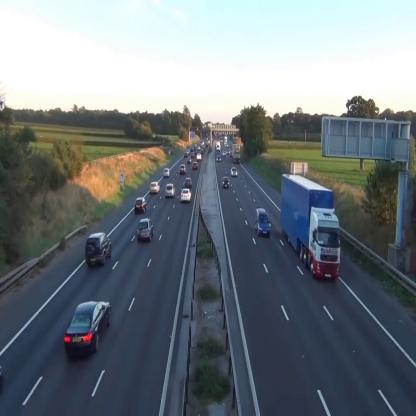car: (64, 299, 112, 353), (85, 232, 112, 266), (255, 207, 271, 235), (138, 217, 154, 242), (135, 197, 148, 214), (165, 182, 175, 197), (181, 188, 191, 202), (150, 182, 160, 194), (222, 176, 230, 189), (231, 166, 238, 177), (162, 168, 170, 177), (185, 176, 192, 186), (192, 160, 198, 170), (180, 164, 186, 172), (197, 152, 202, 160), (216, 155, 221, 162), (187, 157, 192, 163), (184, 151, 188, 158)
lorry: (281, 173, 342, 283), (232, 144, 241, 163)
